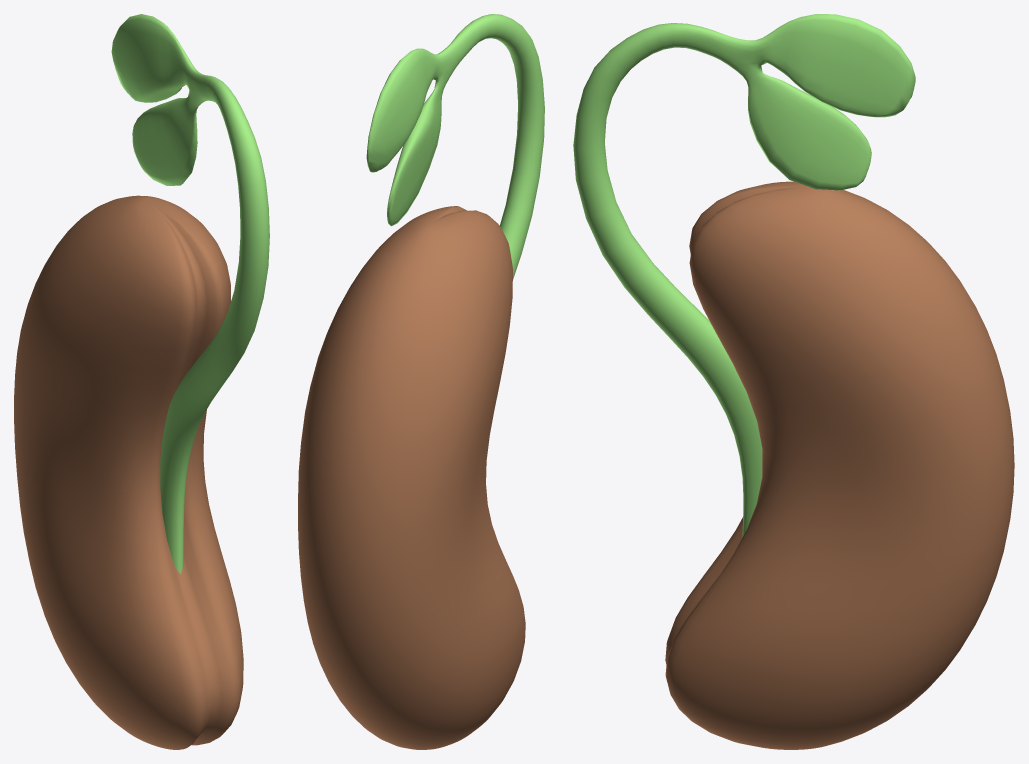
File: Seed.fbx
3 renders of one model, left to right at view 1: azimuth 30°, elevation 25°; view 2: azimuth 150°, elevation 25°; view 3: azimuth 270°, elevation 25°, orthographic. The views are drawn at different scales.
Visible parts, largest first — view 1: Sphere; view 2: Sphere; view 3: Sphere.
Boxes of the visible parts, left/top/right/bottom form: Sphere: left=14, top=14, right=269, bottom=749; Sphere: left=298, top=14, right=544, bottom=749; Sphere: left=573, top=14, right=1014, bottom=749.
Bounding box in the file's own units: 31.79 × 140 × 75.44.
